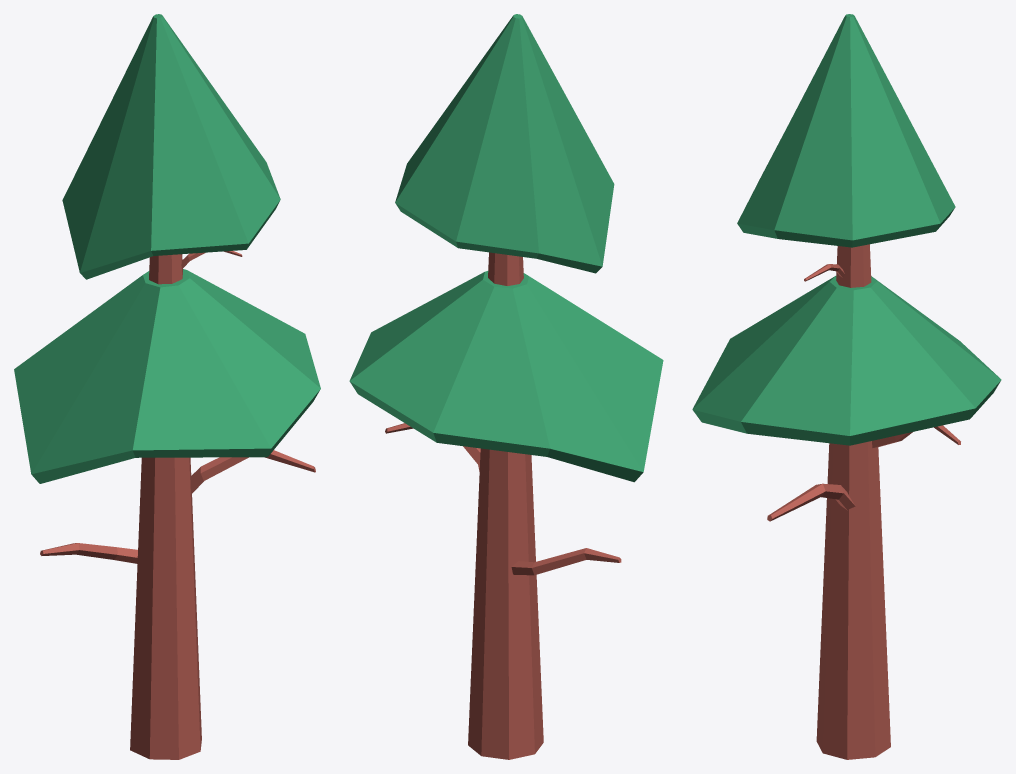
The model's file is Tree3_summer.FBX.
The picture shows the model from 3 angles, left to right: view 1: azimuth 30°, elevation 25°; view 2: azimuth 150°, elevation 25°; view 3: azimuth 270°, elevation 25°; orthographic projection.
Visible parts, largest first — view 1: Tree 2 summer.002; view 2: Tree 2 summer.002; view 3: Tree 2 summer.002.
Part boxes in pixels (x1=…): Tree 2 summer.002: x1=14, y1=14, x2=320, y2=759; Tree 2 summer.002: x1=349, y1=14, x2=663, y2=759; Tree 2 summer.002: x1=692, y1=14, x2=1001, y2=759.
Size of the model in its own units: 2.66 by 6.81 by 2.64.
